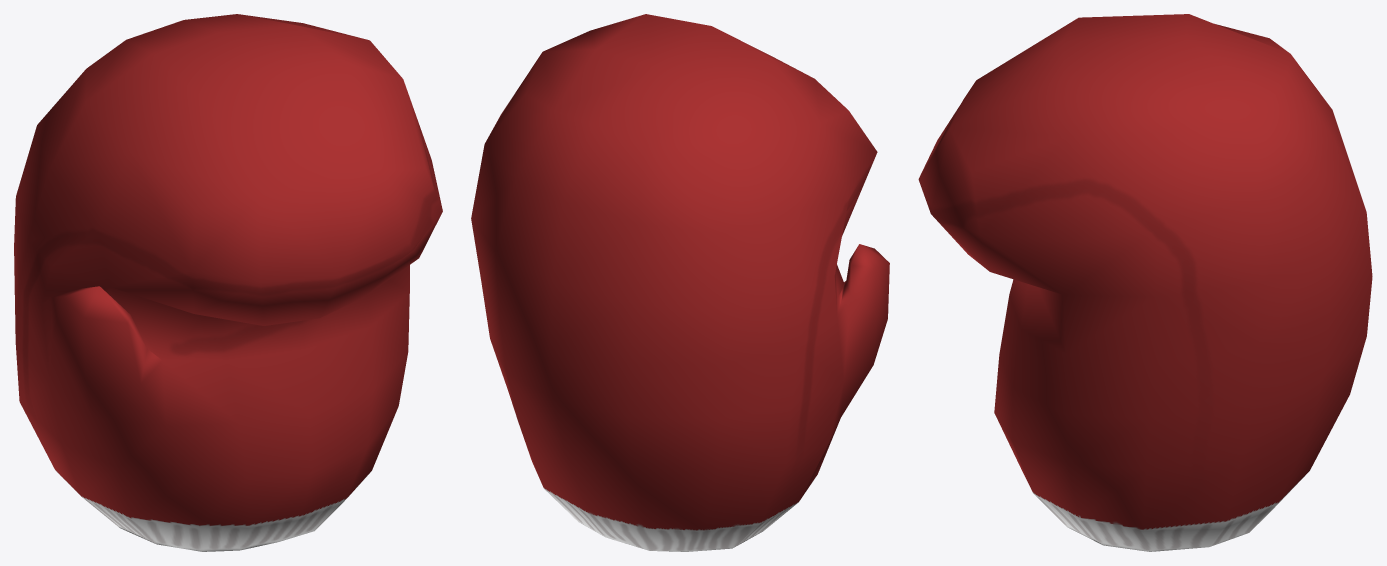
File: GloveL.fbx
3 renders of one model, left to right at view 1: azimuth 30°, elevation 25°; view 2: azimuth 150°, elevation 25°; view 3: azimuth 270°, elevation 25°, orthographic. The views are drawn at different scales.
Parts seen in each view (by area): view 1: L_BoxingGlove; view 2: L_BoxingGlove; view 3: L_BoxingGlove.
Part boxes in pixels (bbox=[...]): L_BoxingGlove: bbox=[14, 14, 442, 551]; L_BoxingGlove: bbox=[471, 14, 889, 551]; L_BoxingGlove: bbox=[918, 14, 1372, 551].
Bounding box in the file's own units: 41.41 × 51.94 × 42.97.
Materials: 1 (1 with a texture image).
